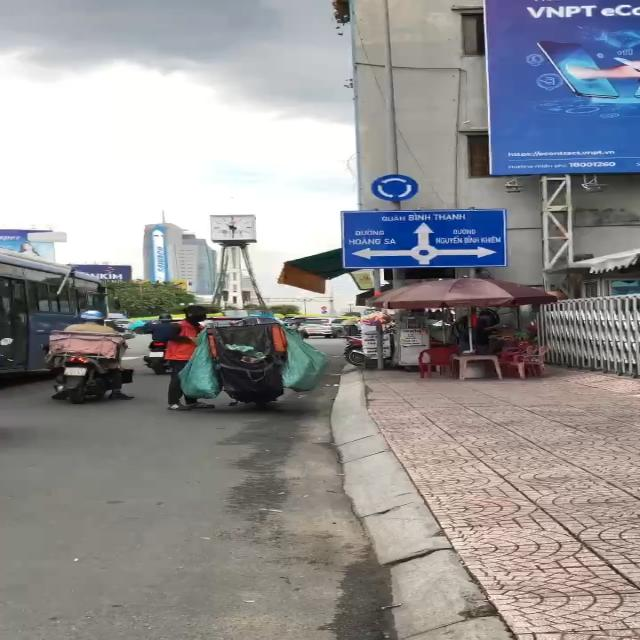Bien bao noi giao nhau chay theo vong xuyen: (365, 172, 426, 205)
